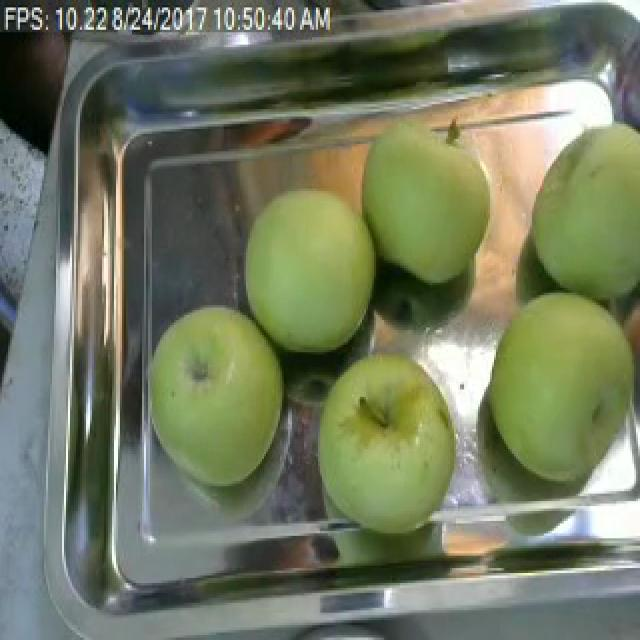50-_ripeness: (142, 291, 299, 513), (331, 334, 462, 548), (365, 106, 523, 275), (496, 301, 630, 494), (248, 190, 386, 344), (525, 136, 640, 291), (152, 145, 155, 146)
